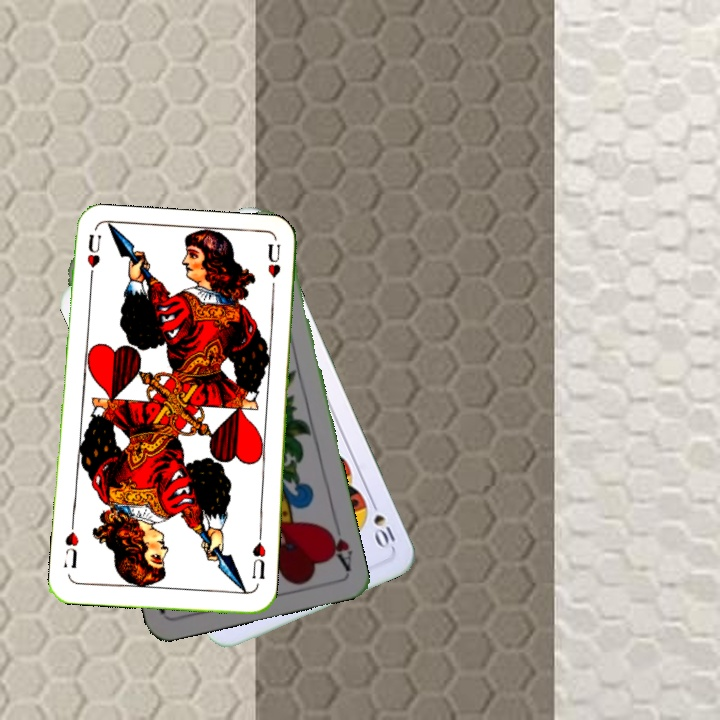HA: (321, 514, 355, 573)
HU: (83, 230, 103, 288), (248, 530, 269, 582)
S10: (366, 494, 398, 551)
